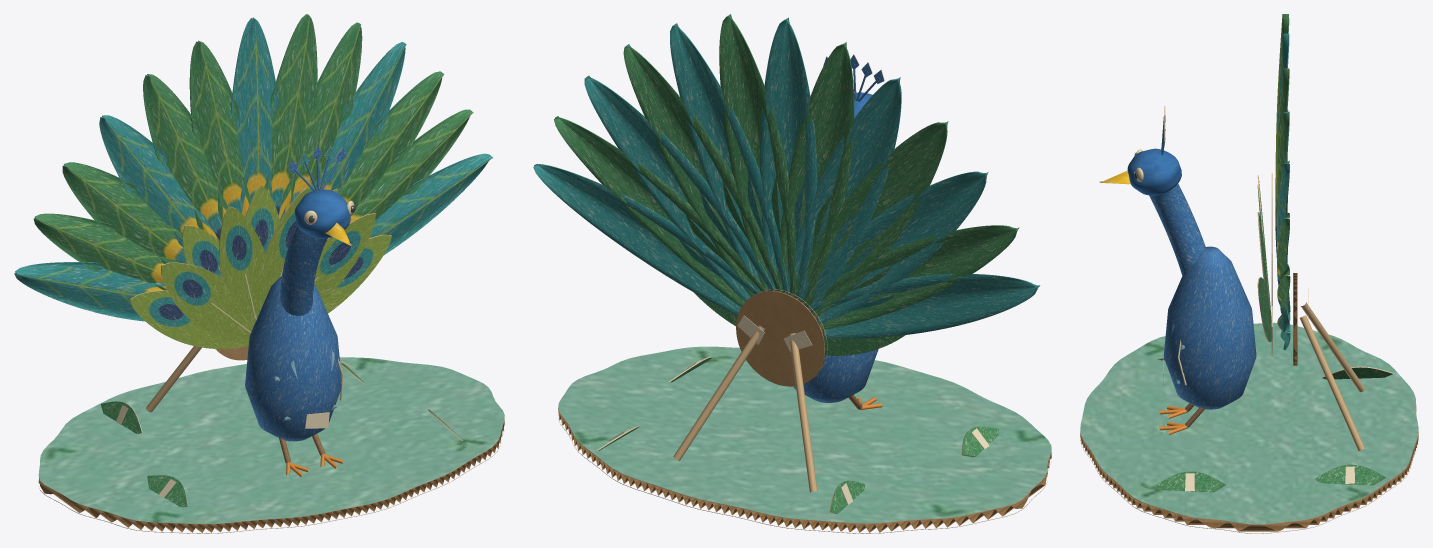
File: 36_folded_paper_peacock.glb
The picture shows the model from 3 angles, left to right: view 1: azimuth 30°, elevation 25°; view 2: azimuth 150°, elevation 25°; view 3: azimuth 270°, elevation 25°; orthographic projection. The views are drawn at different scales.
Visible parts, largest first — view 1: artwork_36_folded_paper_peacock, blue, flute, edge, green, paint_blue, teal, tape, wood; view 2: artwork_36_folded_paper_peacock, teal, green, kraft, flute, blue, wood, edge, tape; view 3: artwork_36_folded_paper_peacock, blue, green, flute, edge, paint_blue, wood, orange.
Part boxes in pixels (x1,y1,x2,y2): artwork_36_folded_paper_peacock: (14, 14, 504, 523); blue: (245, 145, 346, 441); flute: (38, 349, 504, 532); edge: (39, 145, 503, 533); green: (34, 14, 462, 506); paint_blue: (294, 189, 350, 238); teal: (14, 17, 473, 390); tape: (116, 360, 452, 497); wood: (146, 346, 201, 412); artwork_36_folded_paper_peacock: (535, 14, 1051, 523); teal: (533, 17, 1040, 338); green: (554, 14, 1019, 513); kraft: (736, 291, 824, 386); flute: (558, 289, 1051, 532); blue: (793, 54, 883, 402); wood: (673, 325, 817, 492); edge: (558, 54, 1051, 533); tape: (610, 315, 989, 504); artwork_36_folded_paper_peacock: (1080, 14, 1418, 524); blue: (1149, 115, 1256, 409); green: (1154, 17, 1392, 492); flute: (1080, 273, 1418, 531); edge: (1081, 106, 1418, 533); paint_blue: (1127, 148, 1181, 195); wood: (1300, 302, 1364, 450); orange: (1159, 406, 1187, 434).
Bounding box in the file's own units: 0.4992 × 0.418 × 0.3214.
17 materials, 15 textured.
